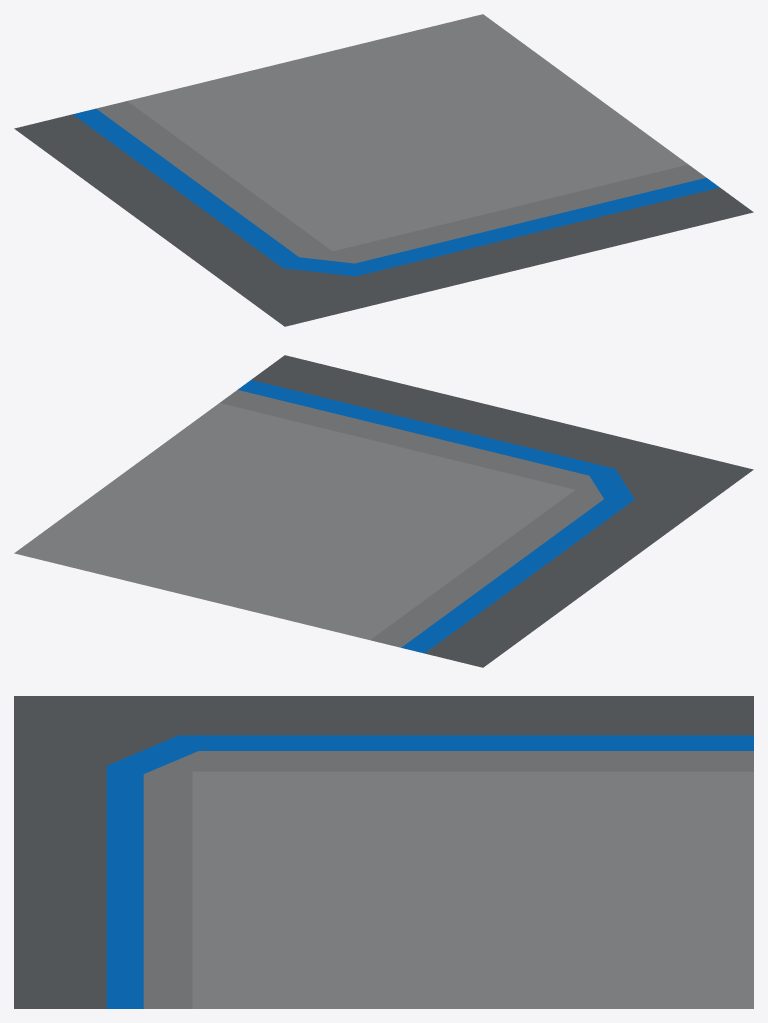
The model's file is Ceiling_type_B_023.fbx.
3 renders of one model, top to bottom at view 1: azimuth 30°, elevation 25°; view 2: azimuth 150°, elevation 25°; view 3: azimuth 270°, elevation 25°, orthographic. The views are drawn at different scales.
Parts seen in each view (by area): view 1: Ceiling_type_B_023; view 2: Ceiling_type_B_023; view 3: Ceiling_type_B_023.
Part boxes in pixels (<box>): Ceiling_type_B_023: <box>14,14,753,326</box>; Ceiling_type_B_023: <box>14,355,753,667</box>; Ceiling_type_B_023: <box>14,696,753,1008</box>.
Bounding box in the file's own units: 400 × 400 × 6.18.
